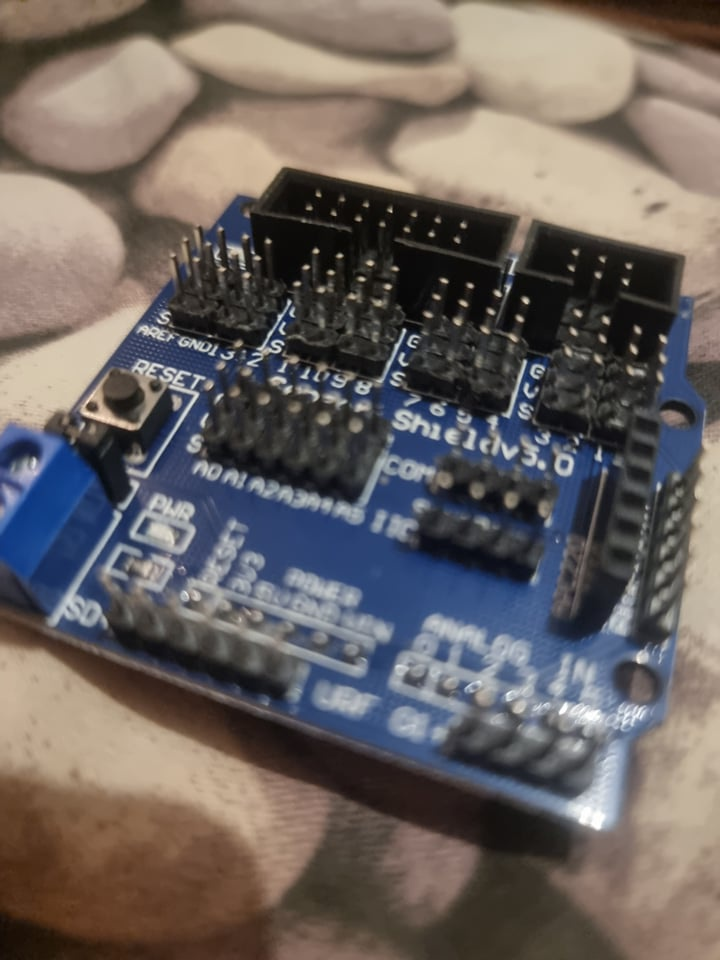5V EXPANSION: (1, 167, 703, 838)
